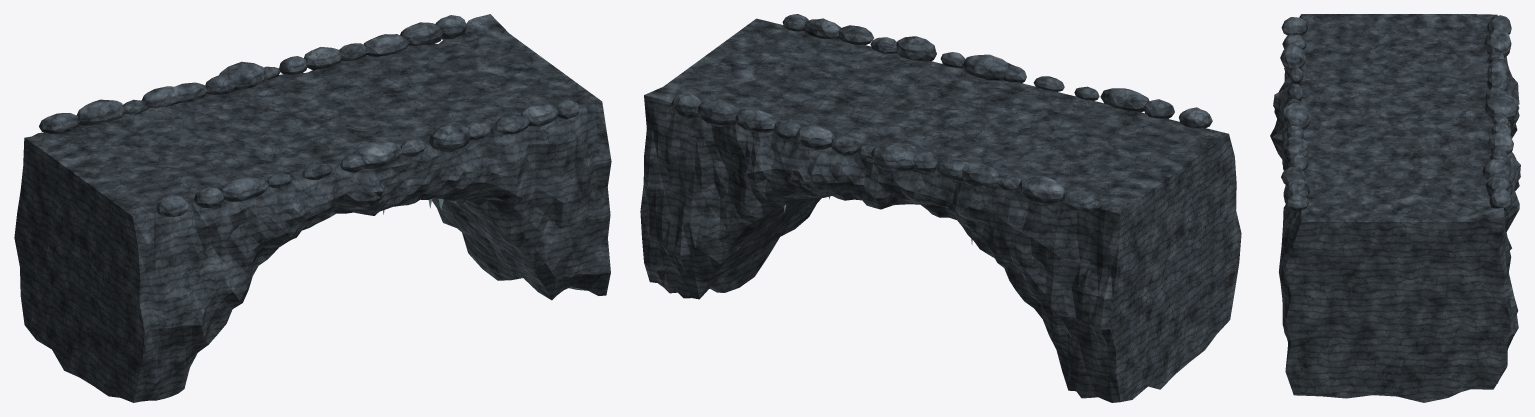
The model's file is snow_bridge.glb.
3 views of the same model, side by side, from view 1: azimuth 30°, elevation 25°; view 2: azimuth 150°, elevation 25°; view 3: azimuth 270°, elevation 25° (orthographic). The views are drawn at different scales.
Parts seen in each view (by area): view 1: snow_bridge; view 2: snow_bridge; view 3: snow_bridge.
Part boxes in pixels (x1,y1,x2,y2): snow_bridge: (14, 14, 611, 402); snow_bridge: (640, 14, 1241, 402); snow_bridge: (1270, 14, 1520, 402).
Bounding box in the file's own units: 12.8 × 5.81 × 6.52.
3 materials, 3 textured.
